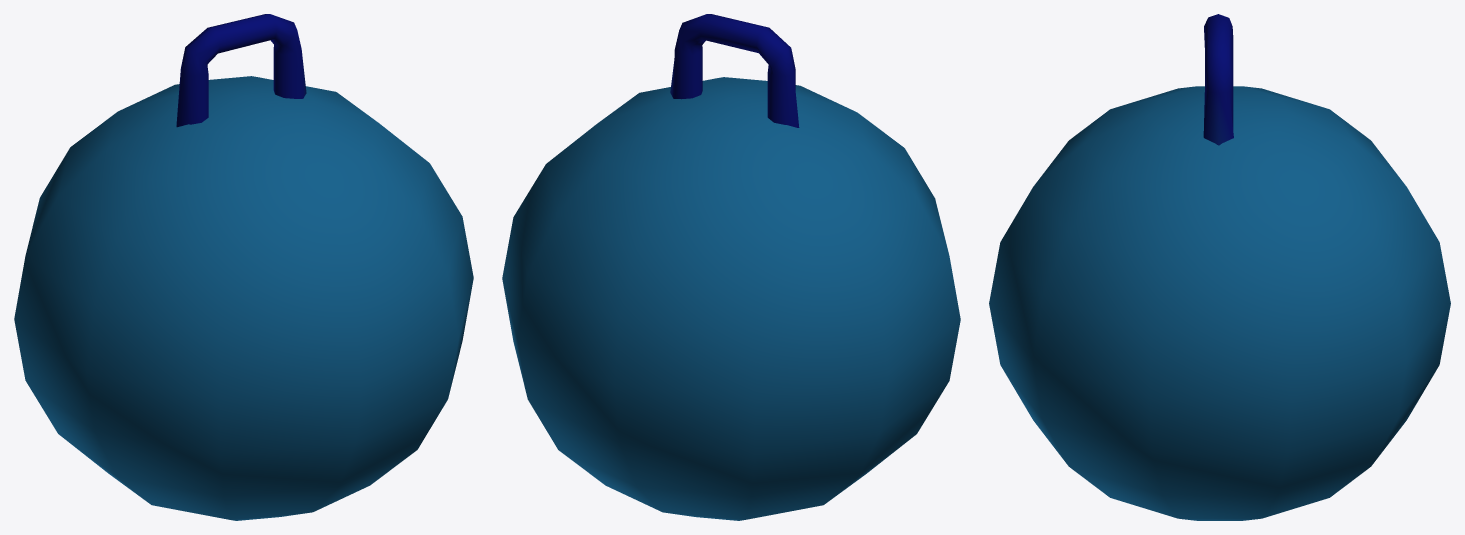
Rendered from BolaDeQuicar.fbx.
3 views of the same model, side by side, from view 1: azimuth 30°, elevation 25°; view 2: azimuth 150°, elevation 25°; view 3: azimuth 270°, elevation 25° (orthographic).
Parts seen in each view (by area): view 1: BolaDeQuicar; view 2: BolaDeQuicar; view 3: BolaDeQuicar.
Part boxes in pixels (box(x1,y1,x2,y2)): BolaDeQuicar: box(14, 14, 473, 520); BolaDeQuicar: box(502, 14, 960, 520); BolaDeQuicar: box(989, 14, 1450, 520).
Size of the model in its own units: 41.96 by 49.81 by 44.12.
